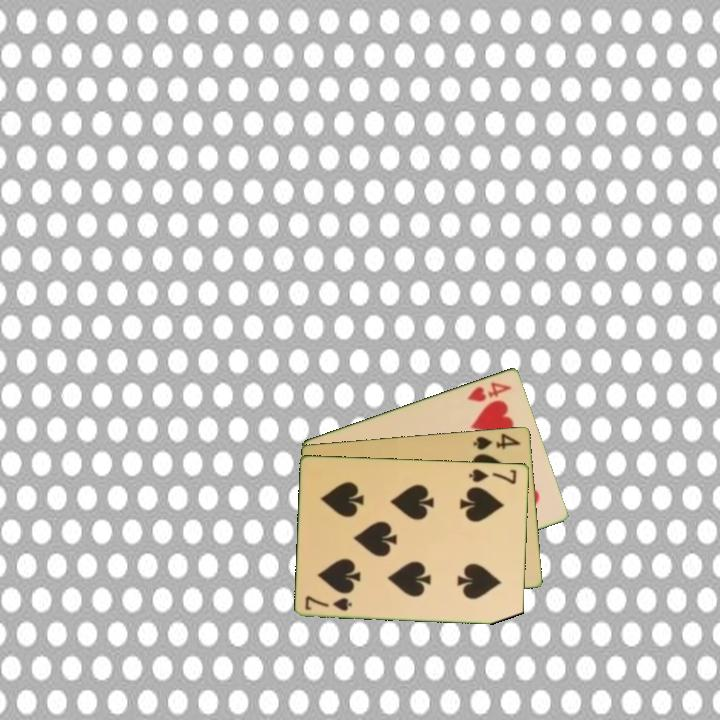4h: (464, 378, 515, 404)
4s: (470, 430, 524, 452)
7s: (466, 465, 520, 487), (302, 592, 355, 614)
